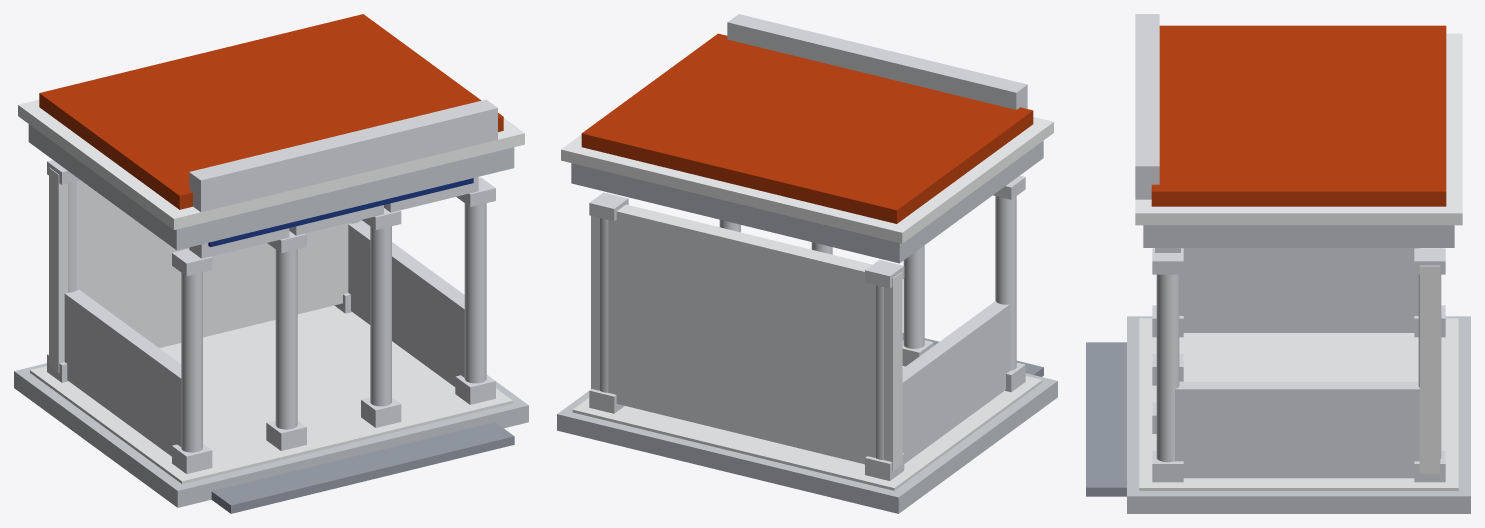
Rendered from booth_02.glb.
3 views of the same model, side by side, from view 1: azimuth 30°, elevation 25°; view 2: azimuth 150°, elevation 25°; view 3: azimuth 270°, elevation 25° (orthographic). The views are drawn at different scales.
Parts seen in each view (by area): view 1: roof_terracotta, marble_floor, rear_masonry, front_attic, side_wall_left, stone_plinth, frieze, side_wall_right, cornice, front_step, col_shaft_1, col_shaft_3 (+13 smaller); view 2: rear_masonry, roof_terracotta, stone_plinth, side_wall_left, cornice, frieze, front_attic, marble_floor, col_shaft_0, col_shaft_1, col_shaft_5, col_shaft_4 (+4 smaller); view 3: roof_terracotta, side_wall_right, marble_floor, side_wall_left, stone_plinth, cornice, frieze, front_step, rear_masonry, front_attic, col_shaft_3, col_base_3 (+4 smaller).
Part boxes in pixels (x1,y1,x2,y2): roof_terracotta: (39,14,503,209); marble_floor: (30,305,512,483); rear_masonry: (49,167,362,372); front_attic: (189,99,497,212); side_wall_left: (64,290,181,456); stone_plinth: (14,363,528,507); frieze: (28,124,514,250); side_wall_right: (348,221,464,386); cornice: (18,99,524,229); front_step: (211,422,514,513); col_shaft_1: (275,249,297,429); col_shaft_3: (464,203,486,383); rear_masonry: (591,204,902,470); roof_terracotta: (581,33,1033,223); stone_plinth: (557,373,1057,513); side_wall_left: (902,301,1009,463); cornice: (561,117,1053,243); frieze: (571,141,1043,263); front_attic: (727,14,1027,109); marble_floor: (572,366,1042,490); col_shaft_0: (995,196,1016,370); col_shaft_1: (903,245,924,348); col_shaft_5: (600,218,608,392); col_shaft_4: (876,285,883,459); roof_terracotta: (1151,25,1446,206); side_wall_right: (1175,381,1419,478); marble_floor: (1139,318,1458,490); side_wall_left: (1179,248,1419,332); stone_plinth: (1127,316,1470,513); cornice: (1135,33,1462,225); frieze: (1143,225,1454,247); front_step: (1086,342,1126,496); rear_masonry: (1419,248,1440,473); front_attic: (1135,14,1159,199); col_shaft_3: (1156,274,1179,462); col_base_3: (1152,450,1183,482).
Size of the model in its own units: 5.2 by 4.5 by 4.7.
